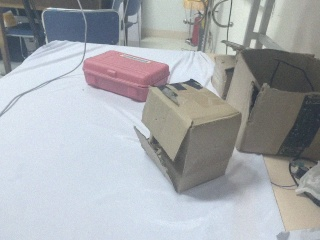box: (135, 81, 241, 192), (227, 49, 320, 160), (82, 47, 171, 103)
